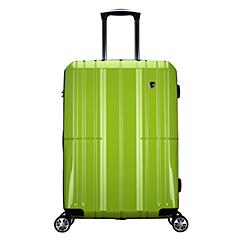luggage: (53, 7, 190, 234)
